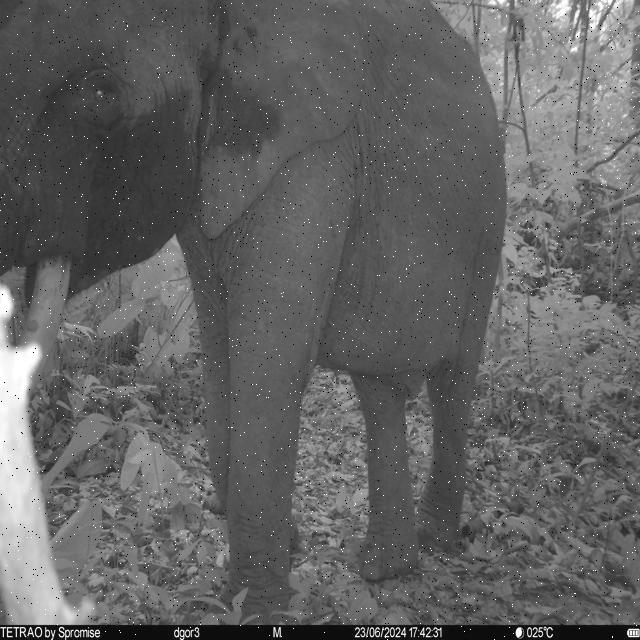ear: (188, 2, 364, 240)
elephant: (1, 2, 508, 626)
tusk: (19, 255, 72, 392)
